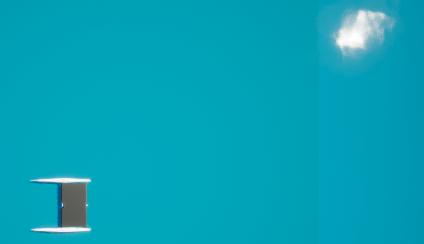boat: (27, 176, 94, 235)
drone: (63, 184, 86, 227)
land_base: (324, 1, 403, 67)
